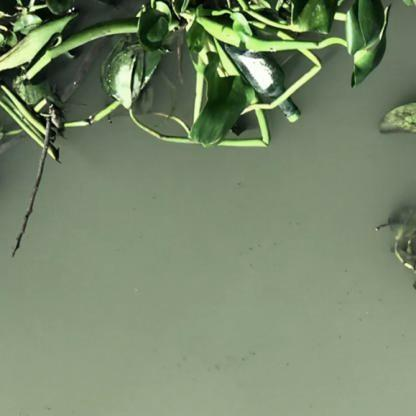Glass: (223, 34, 304, 126)
